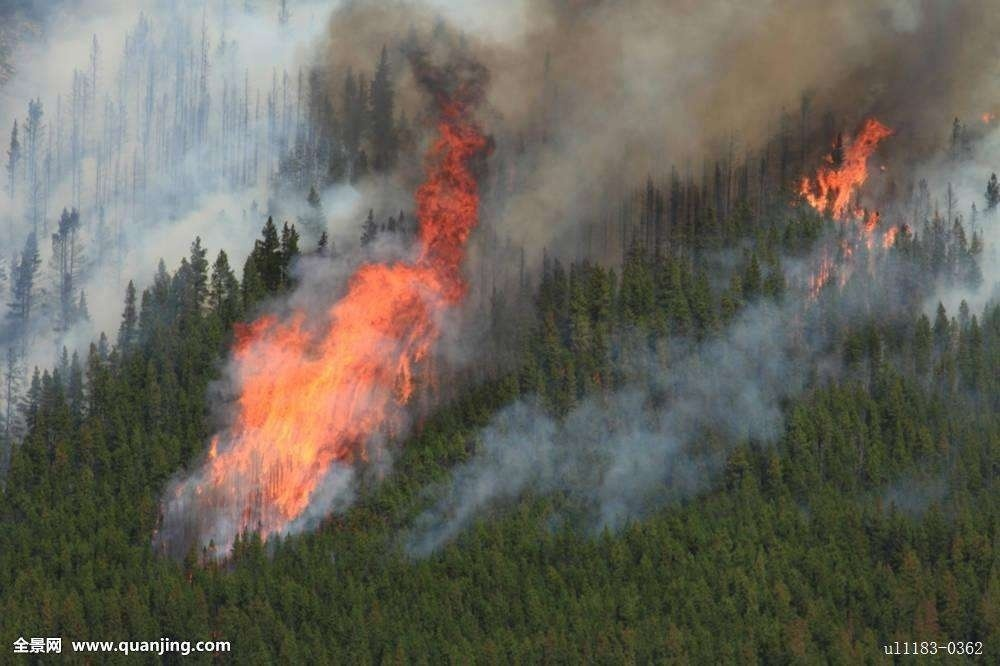fire: (188, 101, 490, 532), (796, 118, 908, 292)
